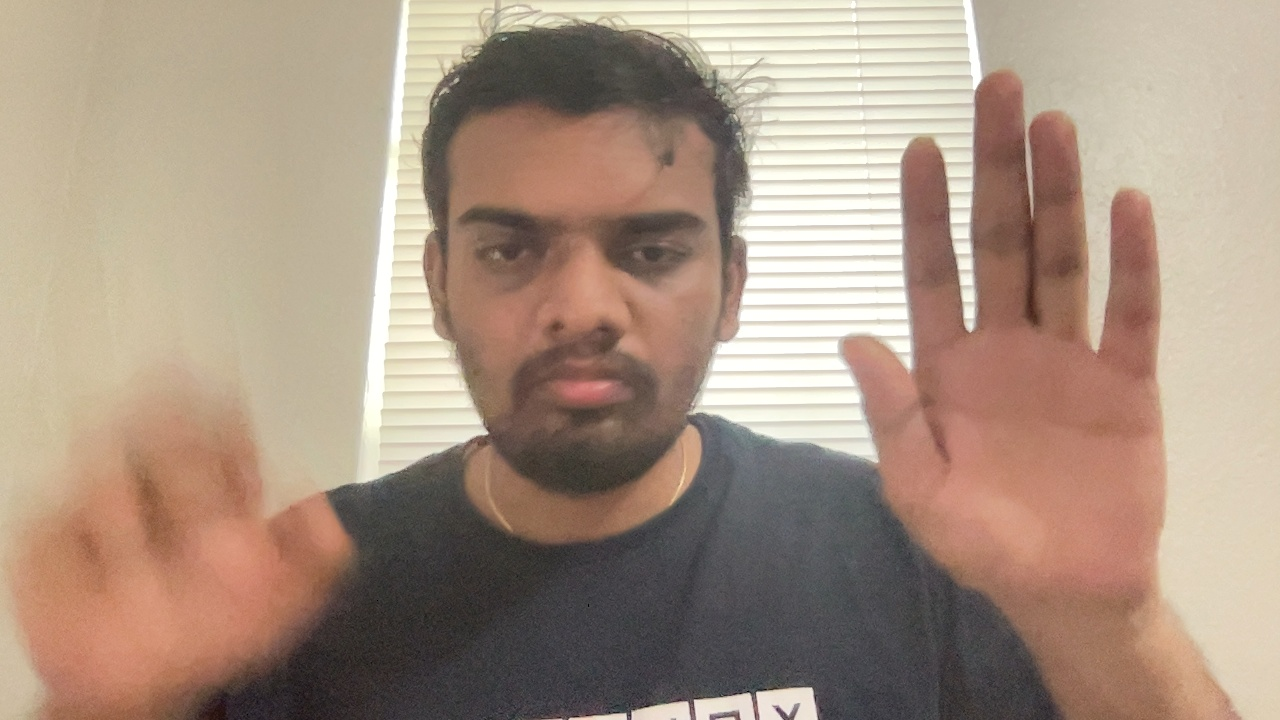hello: (838, 66, 1175, 608)
